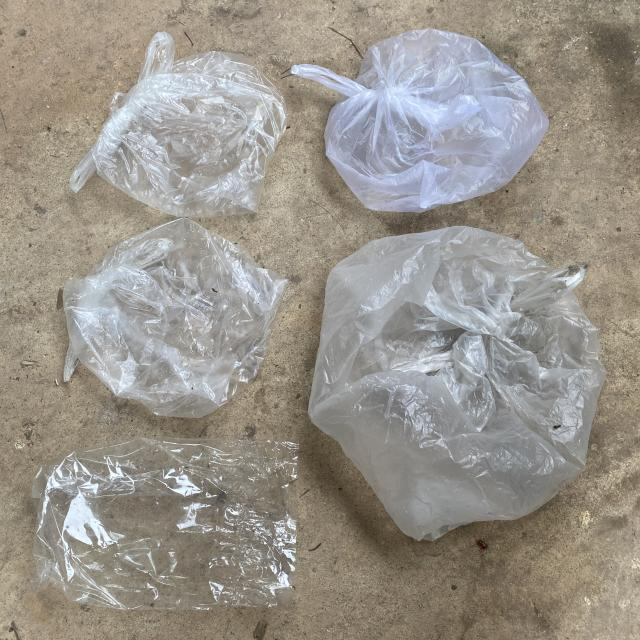Single-layer Plastic: (309, 226, 605, 540), (291, 29, 549, 212), (32, 439, 298, 610), (64, 219, 288, 418), (70, 31, 286, 218)
